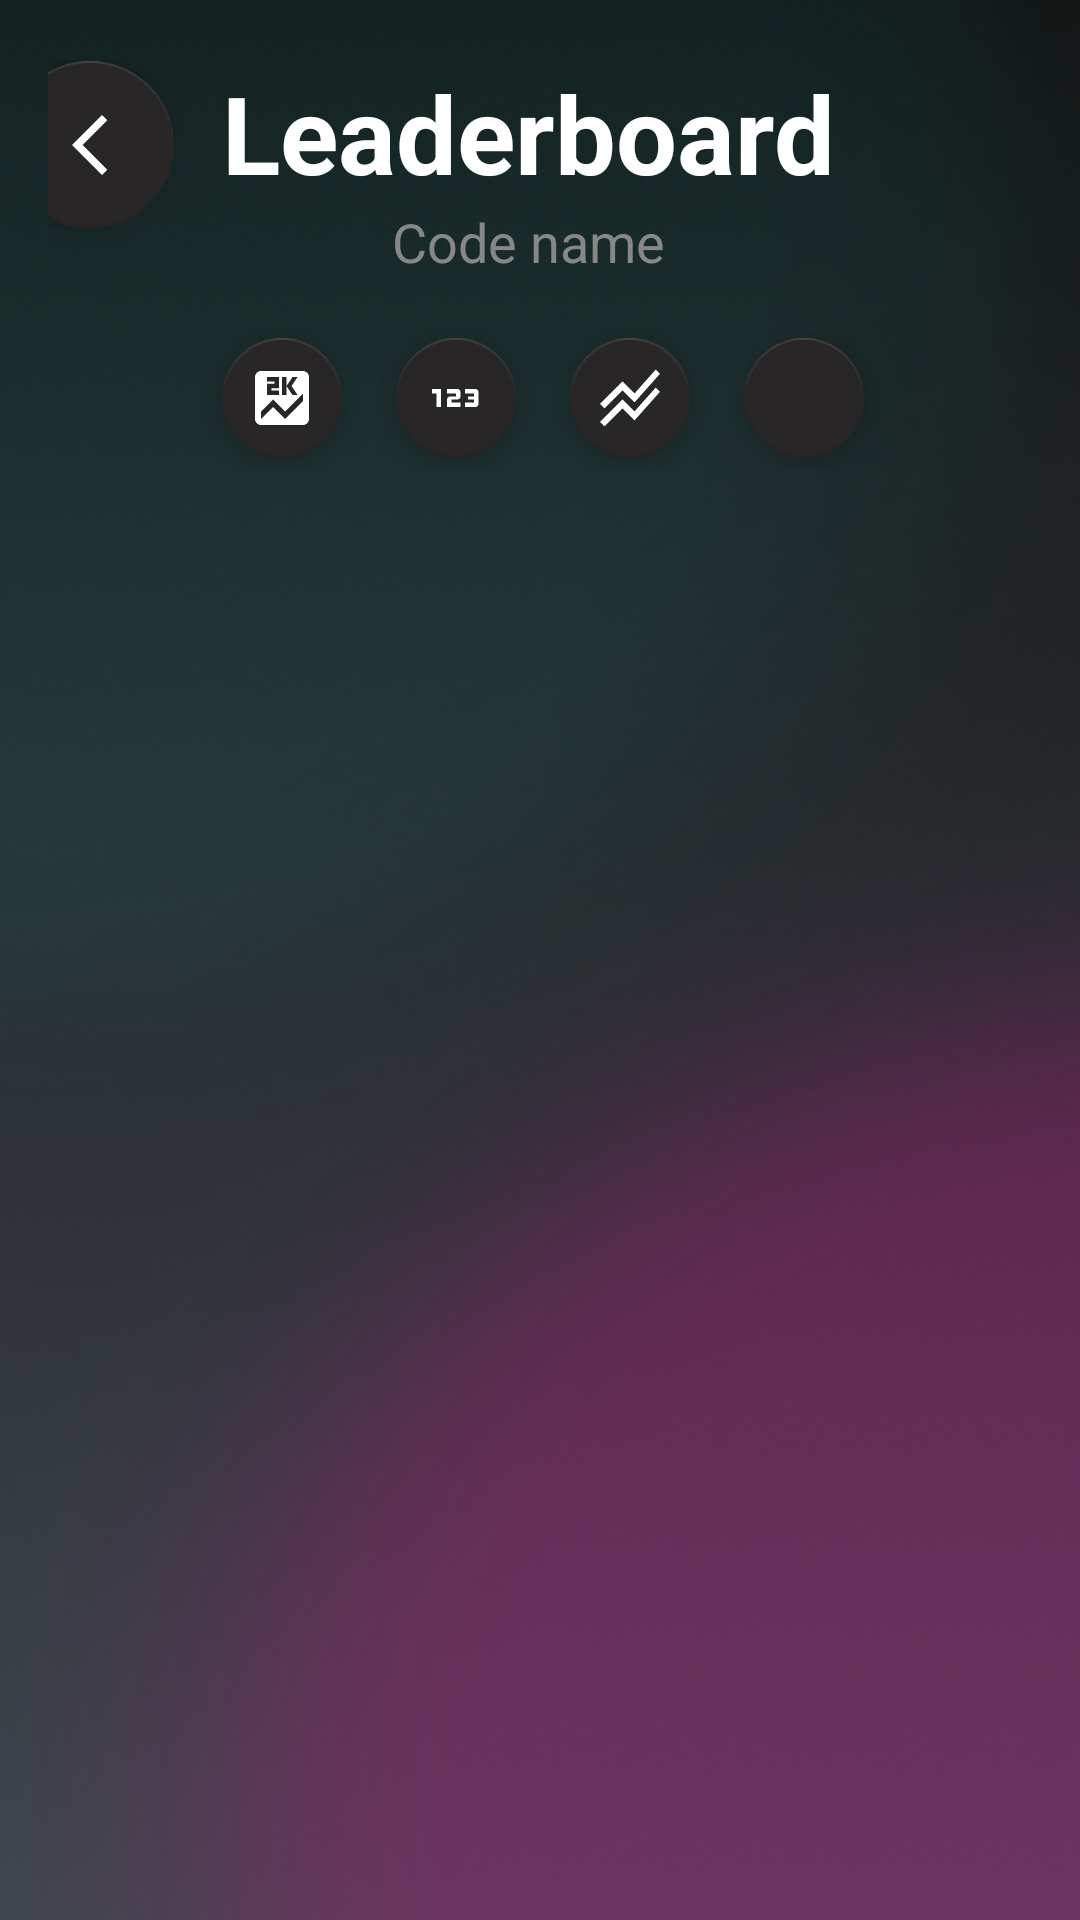

Named icons in this screenshot (1080px x 1920px) and their bounding boxes, region(x1, y1, x2, y2):
High Score QR: region(222, 338, 342, 458)
Most QR Scanned: region(396, 338, 516, 458)
Total high score: region(570, 338, 690, 458)
